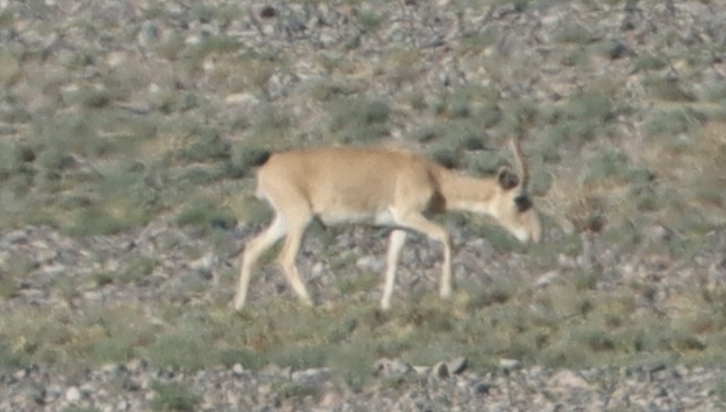saiga: (227, 104, 553, 319)
